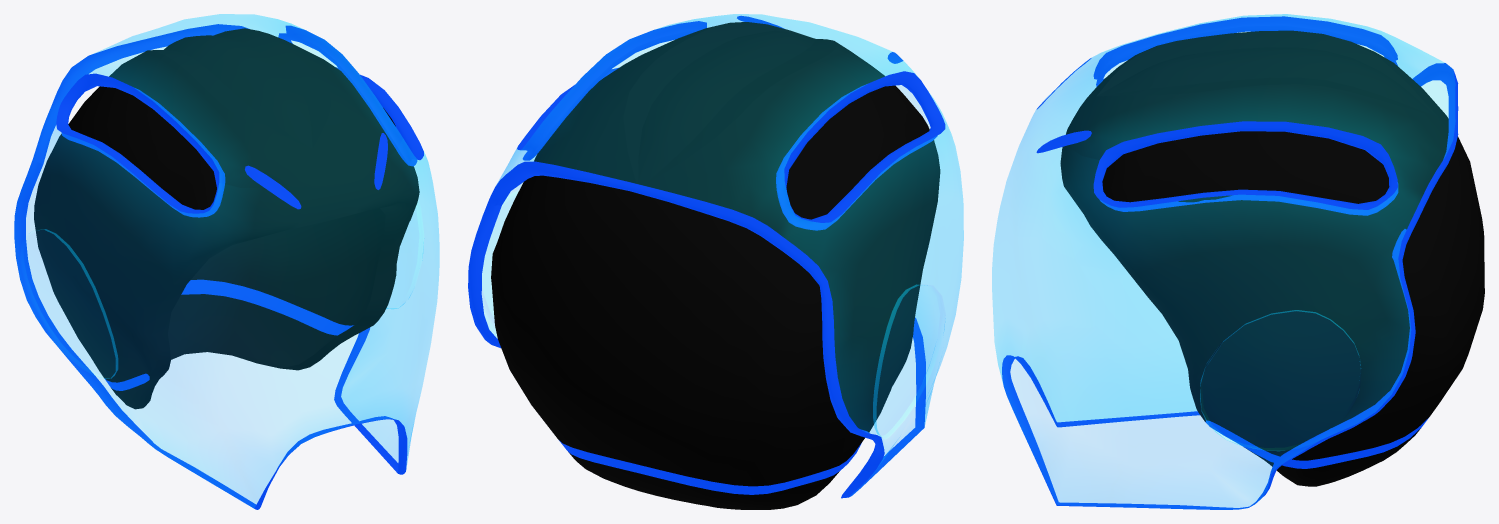
Rendered from helmet_hyper__tron_evolution_battle_grids.glb.
3 views of the same model, side by side, from view 1: azimuth 30°, elevation 25°; view 2: azimuth 150°, elevation 25°; view 3: azimuth 270°, elevation 25° (orthographic). The views are drawn at different scales.
Visible parts, largest first — view 1: Helmet Hyper; view 2: Helmet Hyper; view 3: Helmet Hyper.
Boxes of the visible parts, x1,y1,x2,y2 form: Helmet Hyper: (14,14,439,509); Helmet Hyper: (468,14,963,509); Helmet Hyper: (992,14,1484,509).
Bounding box in the file's own units: 0.025 × 0.0258 × 0.0271.
